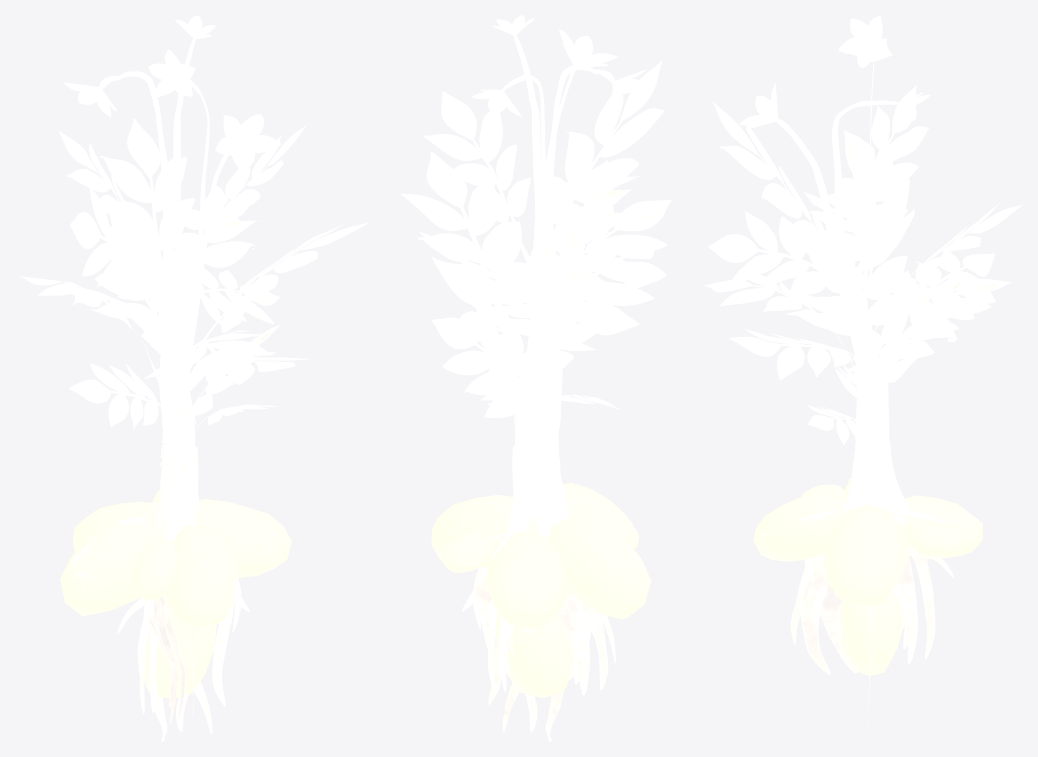
3 renders of one model, left to right at view 1: azimuth 30°, elevation 25°; view 2: azimuth 150°, elevation 25°; view 3: azimuth 270°, elevation 25°, orthographic. The views are drawn at different scales.
Visible parts, largest first — view 1: SM_Potato_Plant_Dead_01_LOD0; view 2: SM_Potato_Plant_Dead_01_LOD0; view 3: SM_Potato_Plant_Dead_01_LOD0.
Part boxes in pixels (bbox=[...]): SM_Potato_Plant_Dead_01_LOD0: bbox=[19, 15, 369, 741]; SM_Potato_Plant_Dead_01_LOD0: bbox=[401, 15, 671, 741]; SM_Potato_Plant_Dead_01_LOD0: bbox=[704, 16, 1022, 728].
Size of the model in its own units: 0.6546 by 1.64 by 0.693.
1 material, 1 textured.
